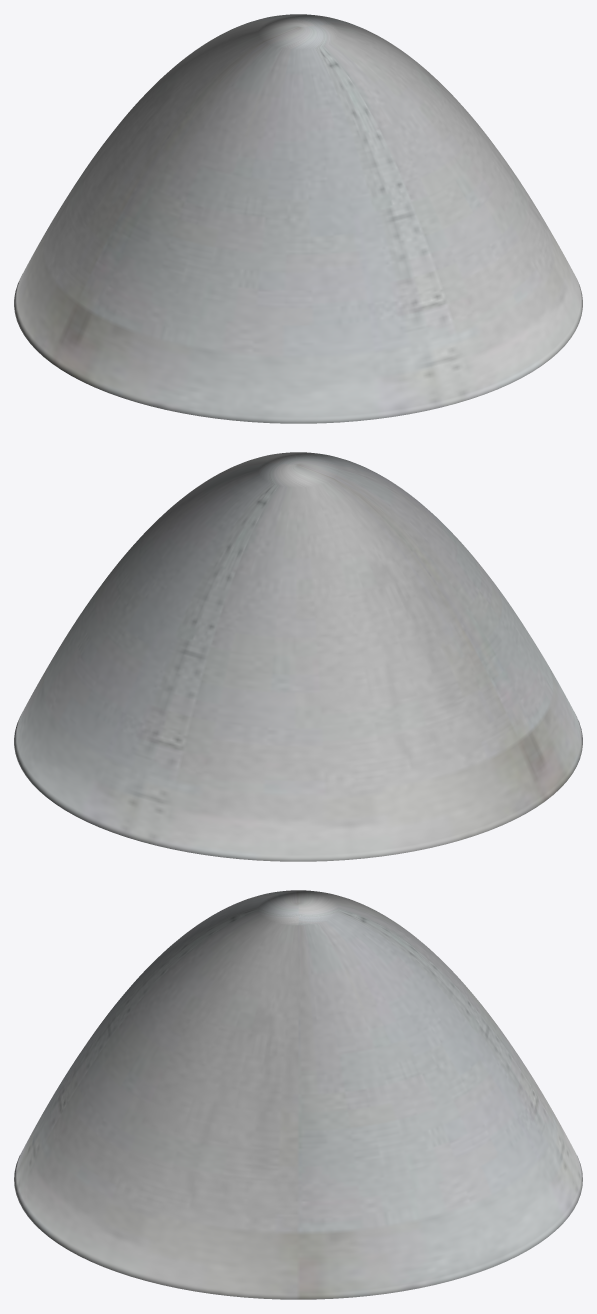
Rendered from ring.obj.
3 views of the same model, one above another, from view 1: azimuth 30°, elevation 25°; view 2: azimuth 150°, elevation 25°; view 3: azimuth 270°, elevation 25° (orthographic).
Bounding box in the file's own units: 2.8 × 1.5 × 2.8.
1 material, 1 textured.
